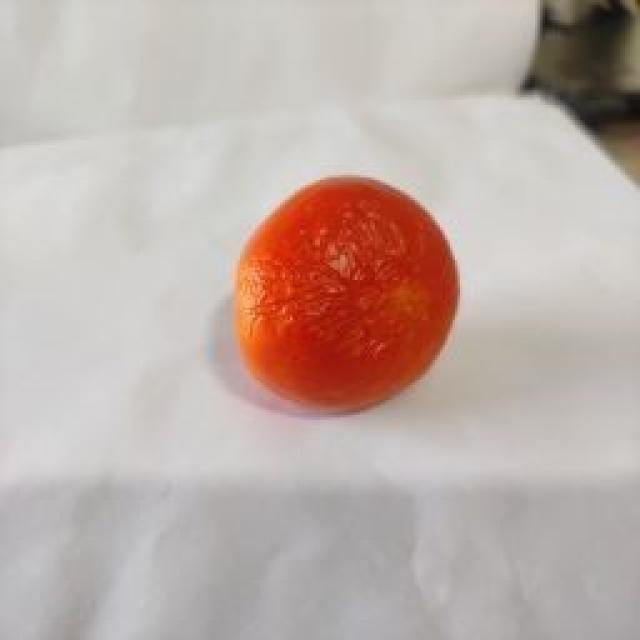overripe: (228, 172, 461, 414)
